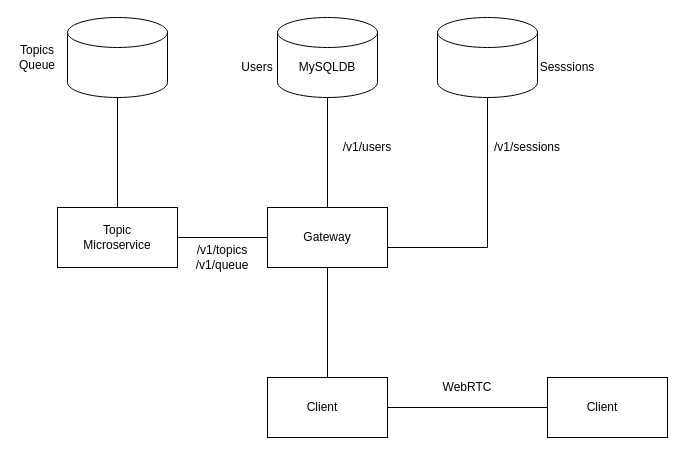
Image size: 685x455. Some labels were removed from this diagram. Here are the shapes that lost their labels. From the top down, the centre of each, then its label:
At pixel 117 57: "MongoDB".
At pixel 487 57: "Redis Store".
